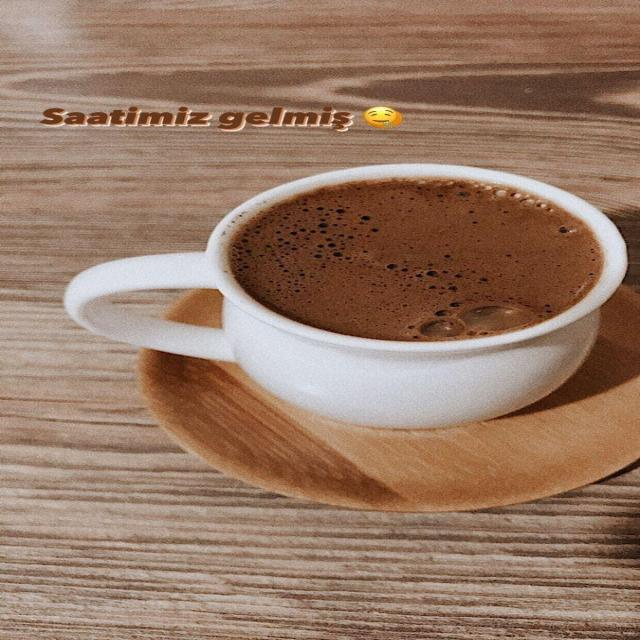cup-handle: (60, 162, 632, 432)
